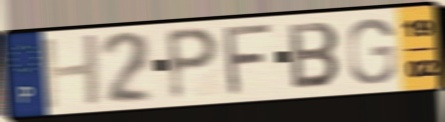2: (98, 30, 158, 108)
B: (286, 20, 343, 91)
F: (222, 21, 277, 98)
G: (345, 16, 399, 86)
H: (39, 31, 105, 113)
P: (163, 25, 222, 103)
